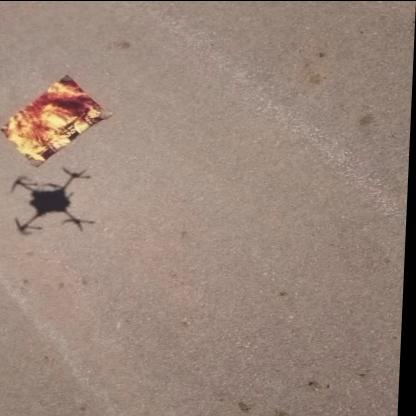fire-poster: (0, 74, 117, 168)
